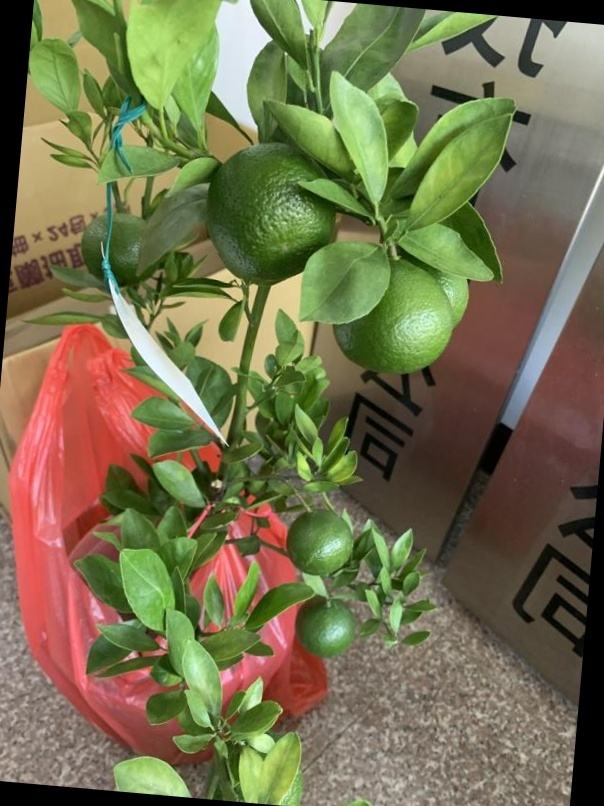Tangerine: (202, 138, 338, 292), (337, 260, 453, 374), (286, 505, 355, 581), (296, 596, 354, 657)
